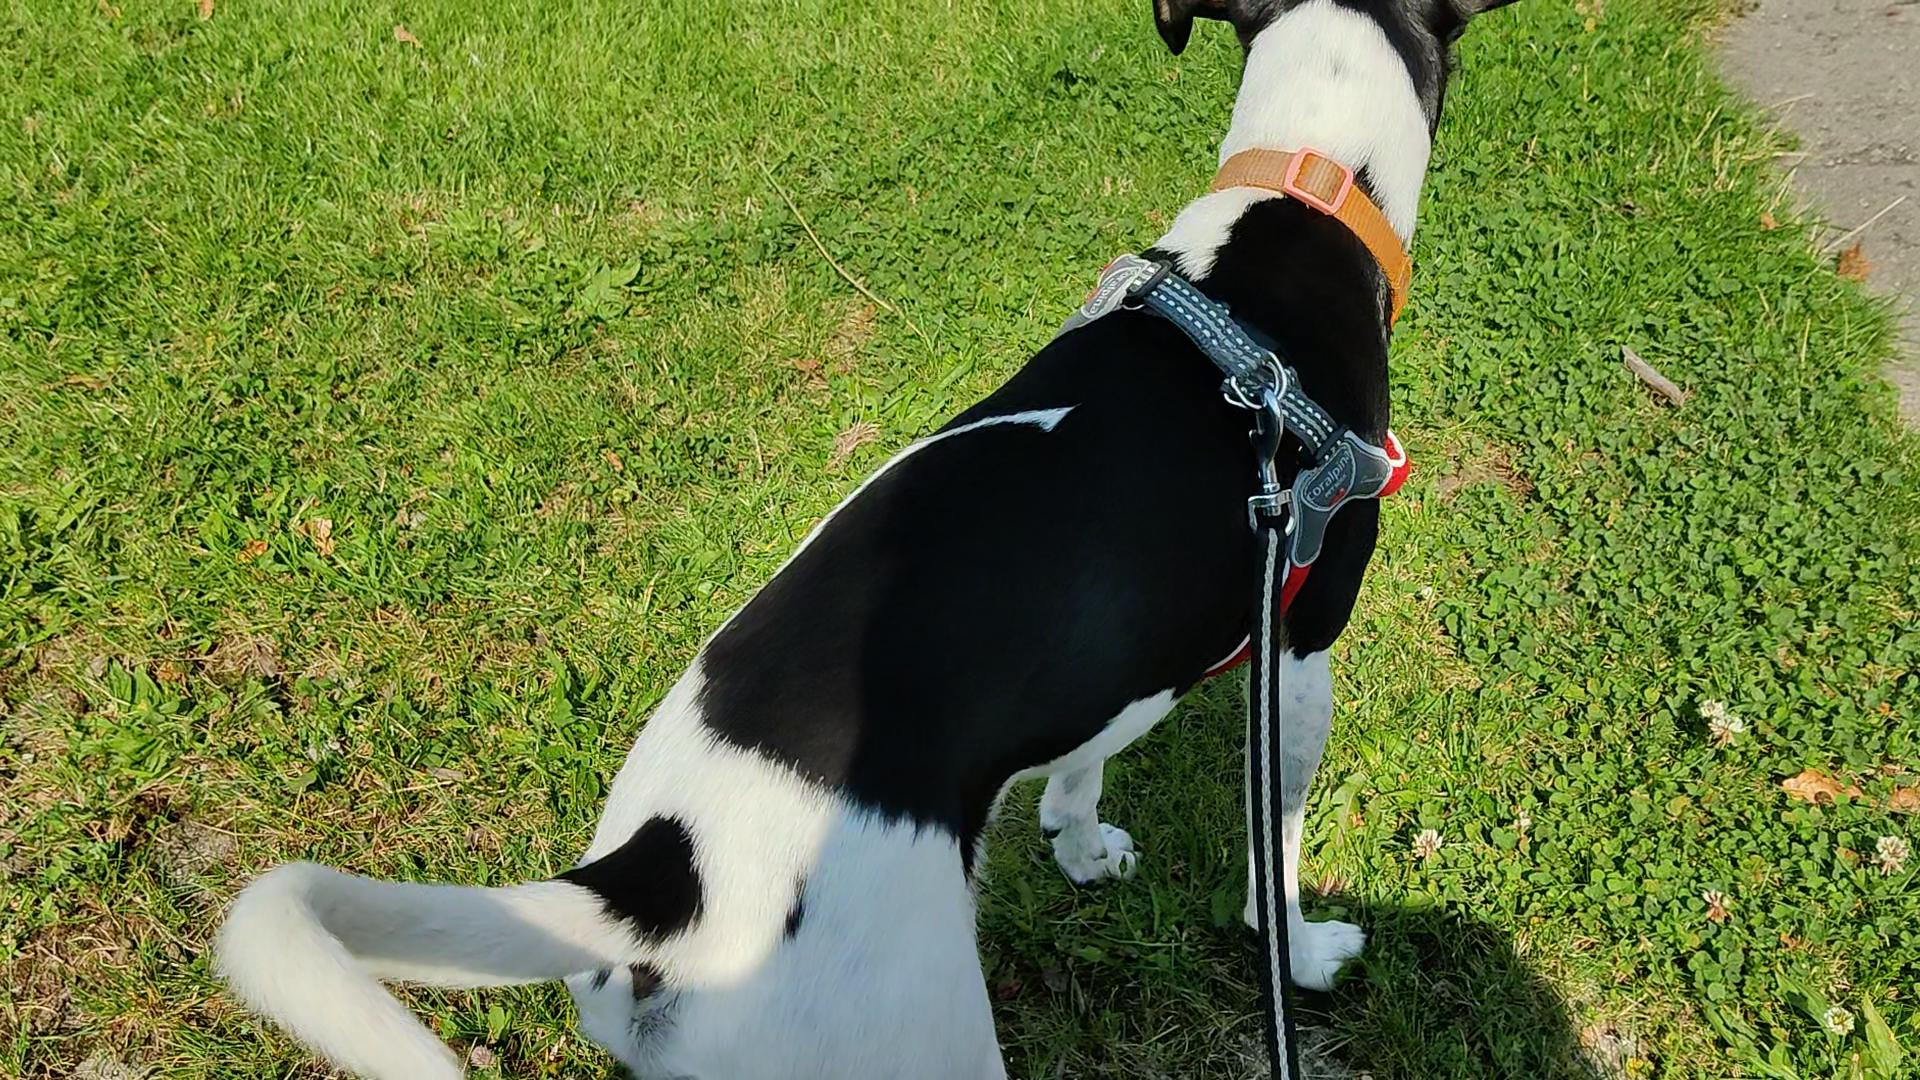Dog: (196, 0, 1526, 1079)
